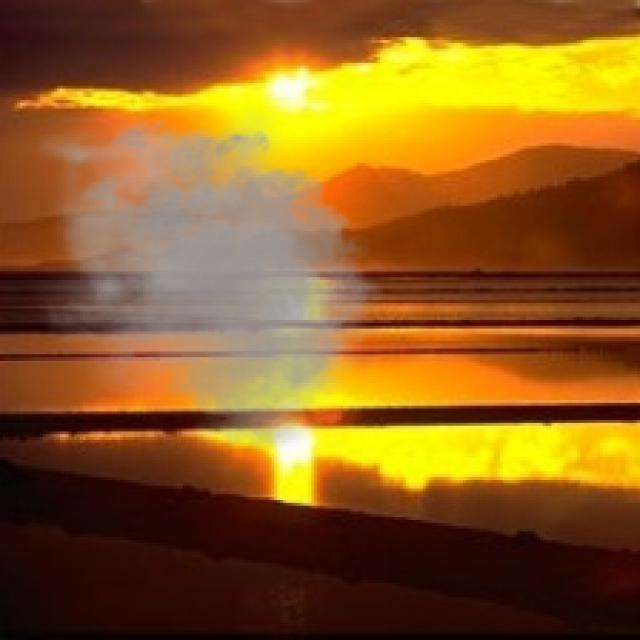Smoke: (26, 103, 394, 460)
